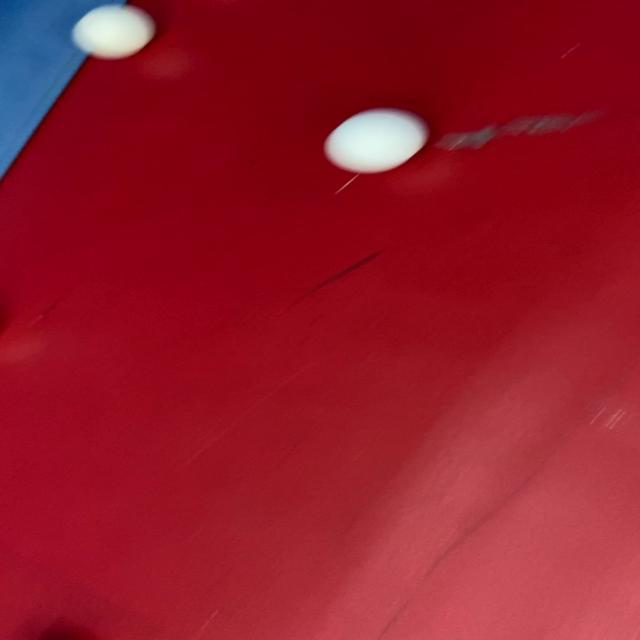ping-pong-ball: (69, 0, 162, 63)
